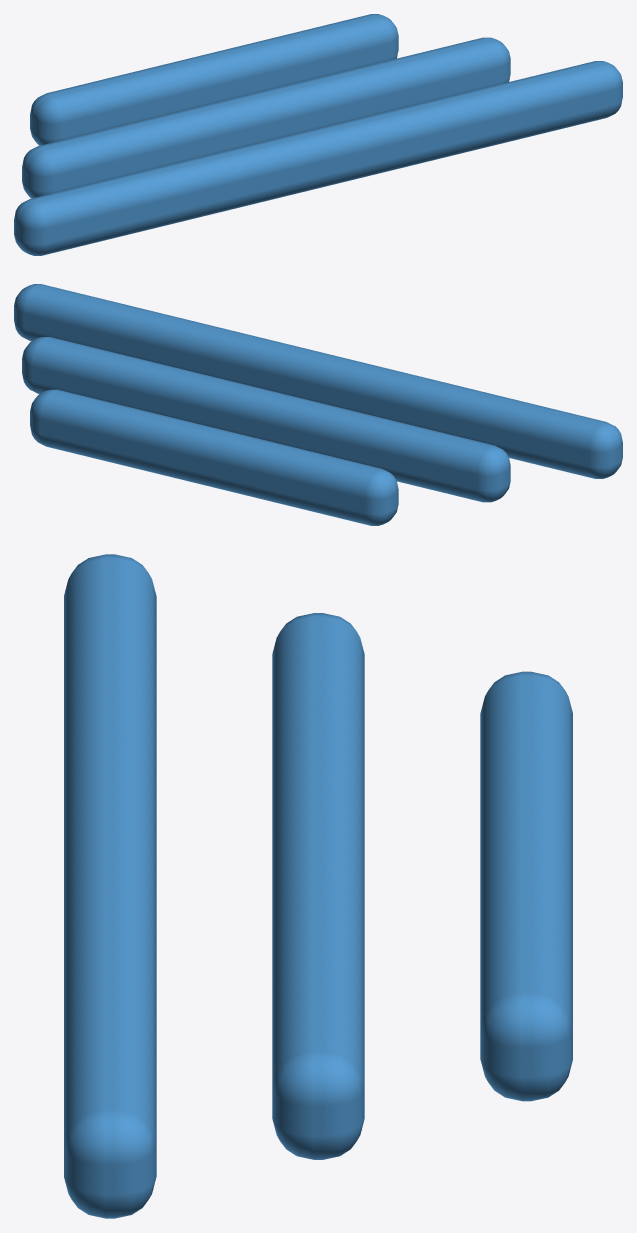
The model's file is Speed_Trail.glb.
3 views of the same model, one above another, from view 1: azimuth 30°, elevation 25°; view 2: azimuth 150°, elevation 25°; view 3: azimuth 270°, elevation 25° (orthographic). The views are drawn at different scales.
Visible parts, largest first — view 1: Speed_Trail; view 2: Speed_Trail; view 3: Speed_Trail.
Part boxes in pixels (bbox=[...]): Speed_Trail: bbox=[14, 14, 622, 255]; Speed_Trail: bbox=[14, 284, 622, 525]; Speed_Trail: bbox=[64, 554, 572, 1218].
Size of the model in its own units: 0.6 by 0.05 by 0.22.
1 material, 1 textured.
